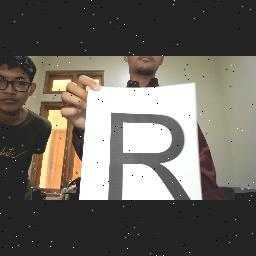r: (104, 108, 210, 200)
